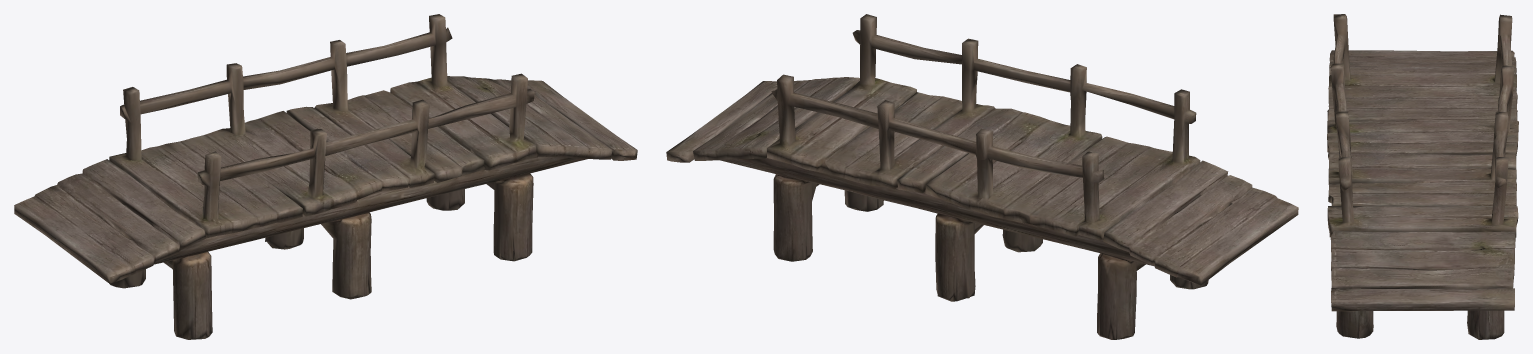
The model's file is kopru-tahta-ham.glb.
The picture shows the model from 3 angles, left to right: view 1: azimuth 30°, elevation 25°; view 2: azimuth 150°, elevation 25°; view 3: azimuth 270°, elevation 25°; orthographic projection. The views are drawn at different scales.
Parts seen in each view (by area): view 1: tripo_node_73847fd4-97fd-4efa-a9c7-7a62d7e460d3; view 2: tripo_node_73847fd4-97fd-4efa-a9c7-7a62d7e460d3; view 3: tripo_node_73847fd4-97fd-4efa-a9c7-7a62d7e460d3.
Boxes of the visible parts, box(x1,y1,x2,y2) form: tripo_node_73847fd4-97fd-4efa-a9c7-7a62d7e460d3: box(14, 14, 637, 339); tripo_node_73847fd4-97fd-4efa-a9c7-7a62d7e460d3: box(666, 14, 1298, 339); tripo_node_73847fd4-97fd-4efa-a9c7-7a62d7e460d3: box(1327, 14, 1518, 339).
Bounding box in the file's own units: 0.9794 × 0.3194 × 0.3199.
1 material, 1 textured.
